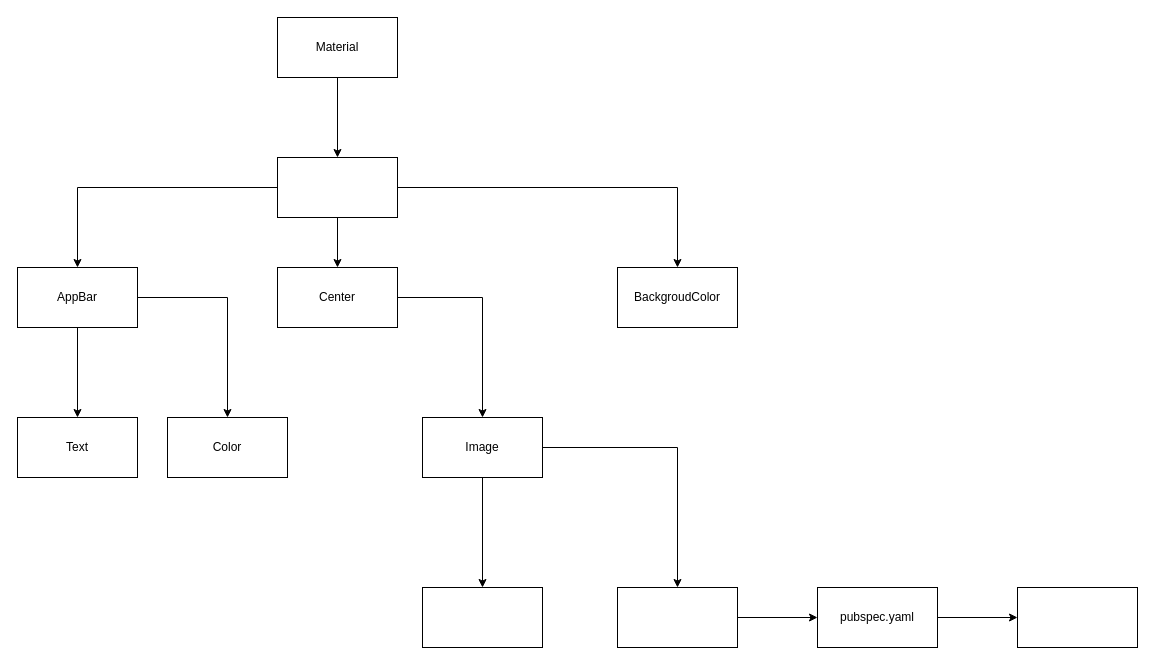
This 1155x665 diagram has some shape labels left out. The centre of each missing label's shape, as x and y in pixels:
"AssetImage" goes at pixel 677 617.
"Image folder" goes at pixel 1077 617.
"Networking Image" goes at pixel 482 617.
"Scaffold" goes at pixel 337 187.
